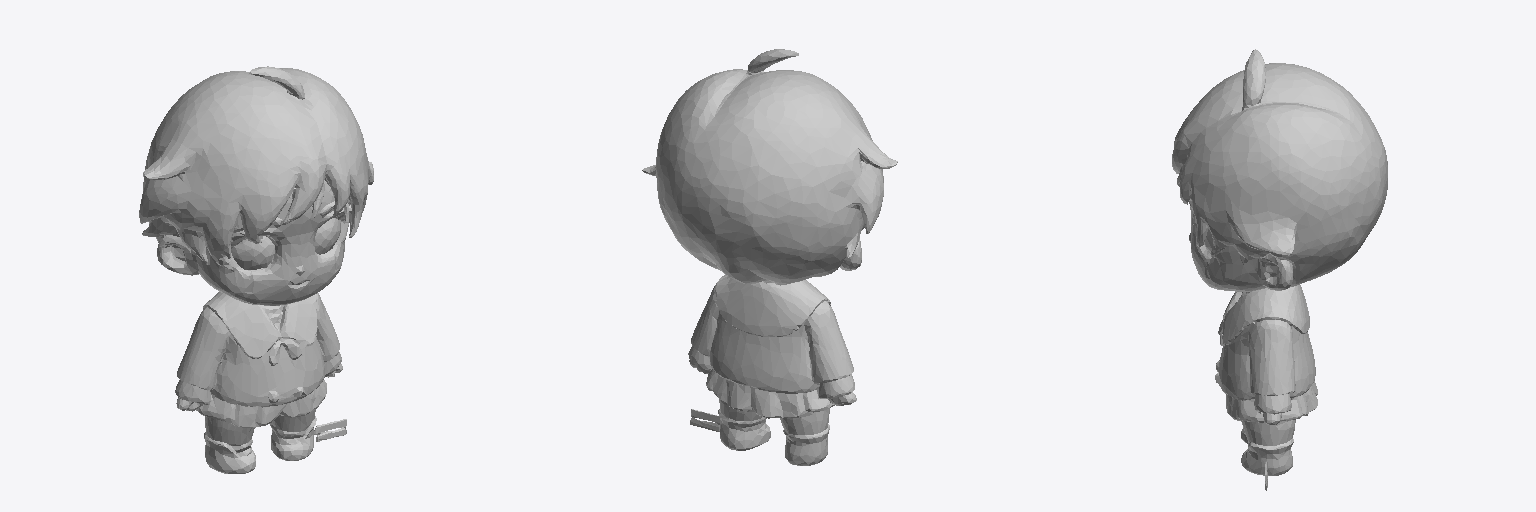
The model's file is Hy21_Glass_Mesh_repaired.obj.
The picture shows the model from 3 angles: view 1: azimuth 30°, elevation 25°; view 2: azimuth 150°, elevation 25°; view 3: azimuth 270°, elevation 25°; orthographic projection.
Parts seen in each view (by area): view 1: Hy21_Glass_Mesh.obj; view 2: Hy21_Glass_Mesh.obj; view 3: Hy21_Glass_Mesh.obj.
Part boxes in pixels (x1,y1,x2,y2): Hy21_Glass_Mesh.obj: (139, 66, 373, 473); Hy21_Glass_Mesh.obj: (642, 49, 897, 465); Hy21_Glass_Mesh.obj: (1172, 49, 1387, 490).
Size of the model in its own units: 1.25 by 1.96 by 0.9696.